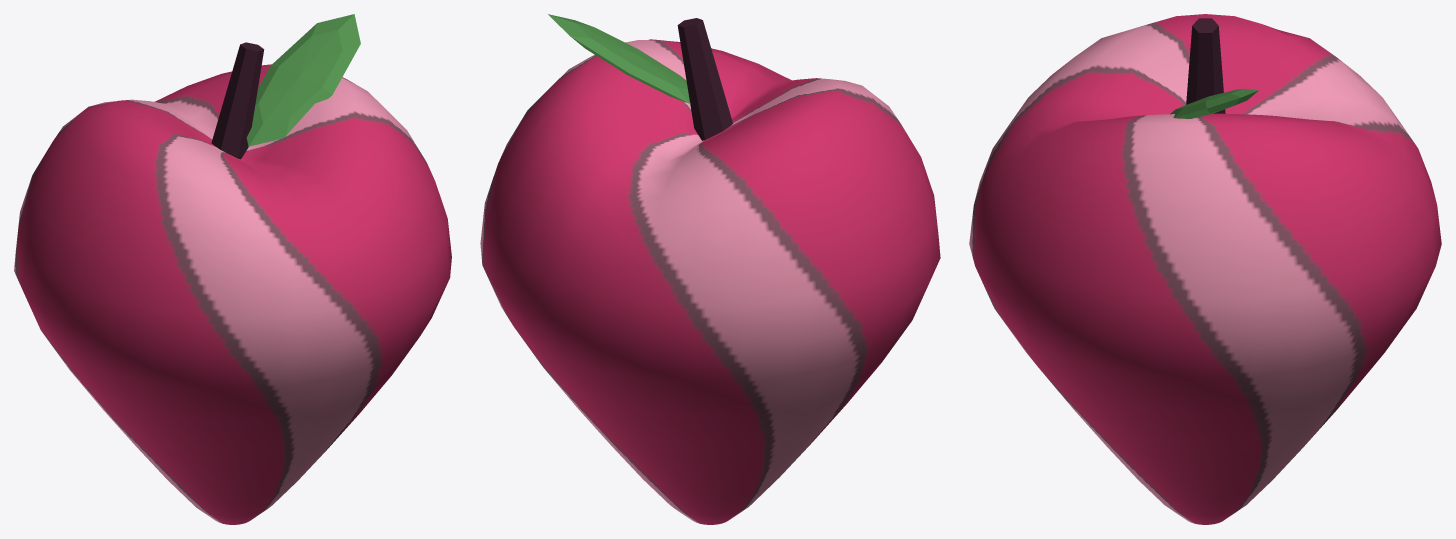
File: Fruit_OpeOpe.fbx
3 views of the same model, side by side, from view 1: azimuth 30°, elevation 25°; view 2: azimuth 150°, elevation 25°; view 3: azimuth 270°, elevation 25° (orthographic). The views are drawn at different scales.
Parts seen in each view (by area): view 1: Fruit_OpeOpe; view 2: Fruit_OpeOpe; view 3: Fruit_OpeOpe.
Part boxes in pixels (bbox=[...]): Fruit_OpeOpe: bbox=[14, 14, 451, 524]; Fruit_OpeOpe: bbox=[480, 14, 940, 524]; Fruit_OpeOpe: bbox=[969, 14, 1441, 524].
Bounding box in the file's own units: 1.6 × 1.9 × 1.6.
Materials: 1 (1 with a texture image).
